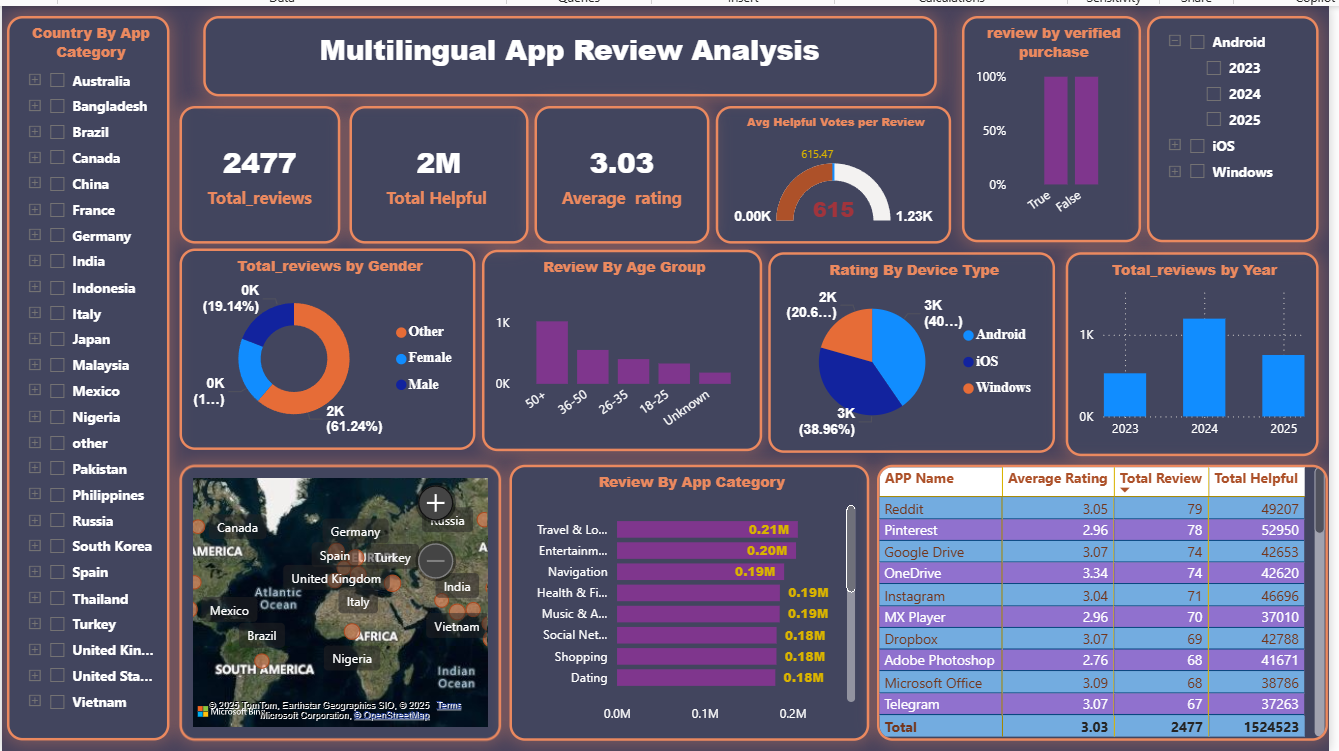

This screenshot's page, from the dashboard's own definition file:
{"tool":"powerbi","page":{"name":"Page 1","canvas":[1280,720],"ordinal":0},"visuals":[{"type":"card","fields":{"Values":["multilingual_mobile_app.Total_reviews"]},"box":[171.2,96.2,155,132.5],"z":0},{"type":"clusteredColumnChart","title":"Review By Age Group","fields":{"Category":["multilingual_mobile_app.Age Group"],"Y":["CountNonNull(multilingual_mobile_app.review_id)"]},"box":[463.1,235.4,270,194.6],"z":1000},{"type":"card","fields":{"Values":["multilingual_mobile_app.Total Helpful Votes"]},"box":[335,96.2,172.5,132.5],"z":2000},{"type":"donutChart","fields":{"Category":["multilingual_mobile_app.Gender"],"Y":["multilingual_mobile_app.Total_reviews"]},"box":[170.8,234.6,285.4,194.6],"z":3000},{"type":"map","fields":{"Category":["multilingual_mobile_app.country"],"Size":["CountNonNull(multilingual_mobile_app.review_id)"]},"box":[170.8,443.1,310.8,266],"z":4000},{"type":"clusteredBarChart","title":"Review By App Category","fields":{"Category":["multilingual_mobile_app.app_category"],"Y":["Sum(multilingual_mobile_app.review_id)"]},"box":[490,443.1,346.9,266.2],"z":5000},{"type":"pieChart","title":"Rating By Device  Type","fields":{"Category":["multilingual_mobile_app.device_type"],"Y":["Sum(multilingual_mobile_app.rating)"]},"box":[740,237.7,276.9,193.8],"z":6000},{"type":"lineStackedColumnComboChart","fields":{"Category":["multilingual_mobile_app.Date.Variation.Date Hierarchy.Year"],"Y":["multilingual_mobile_app.Total_reviews"]},"box":[1026.7,237.7,243.7,196.6],"z":7000},{"type":"hundredPercentStackedColumnChart","title":"review by verified purchase","fields":{"Y":["Sum(multilingual_mobile_app.review_id)"],"Category":["multilingual_mobile_app.verified_purchase"]},"box":[926.2,10,172.5,218.8],"z":8000},{"type":"gauge","title":"Avg Helpful Votes per Review","fields":{"Y":["Avg(multilingual_mobile_app.num_helpful_votes)"]},"box":[688.8,96.2,227.5,132.5],"z":9000},{"type":"textbox","box":[193.6,10,708.2,77.3],"z":10000},{"type":"card","fields":{"Values":["Avg(multilingual_mobile_app.rating)"]},"box":[513.8,96.2,168.8,132.5],"z":11000},{"type":"pivotTable","fields":{"Rows":["multilingual_mobile_app.app_name"],"Values":["Avg(multilingual_mobile_app.rating)","CountNonNull(multilingual_mobile_app.review_id)","Sum(multilingual_mobile_app.num_helpful_votes)"]},"box":[844.6,443.1,435.4,266.2],"z":12000},{"type":"slicer","fields":{"Values":["multilingual_mobile_app.device_type","multilingual_mobile_app.Year"]},"box":[1105.6,10,165.6,218.8],"z":13000},{"type":"slicer","title":"Country By  App Category","fields":{"Values":["multilingual_mobile_app.country","multilingual_mobile_app.app_category"]},"box":[5.4,10,156.9,699.2],"z":14000}]}

Visuals, with their boxes in screenshot pixels (x1, y1, x2, y2):
card - multilingual_mobile_app.Total_reviews: l=172, t=106, r=331, b=242
"Review By Age Group" clusteredColumnChart: l=472, t=249, r=749, b=449
card - multilingual_mobile_app.Total Helpful Votes: l=341, t=106, r=518, b=242
donutChart - multilingual_mobile_app.Gender x multilingual_mobile_app.Total_reviews: l=172, t=248, r=465, b=448
map - multilingual_mobile_app.country x CountNonNull(multilingual_mobile_app.review_id): l=172, t=462, r=491, b=735
"Review By App Category" clusteredBarChart: l=500, t=462, r=856, b=735
"Rating By Device  Type" pieChart: l=756, t=251, r=1041, b=450
lineStackedColumnComboChart - multilingual_mobile_app.Date.Variation.Date Hierarchy.Year x multilingual_mobile_app.Total_reviews: l=1051, t=251, r=1301, b=453
"review by verified purchase" hundredPercentStackedColumnChart: l=948, t=17, r=1125, b=242
"Avg Helpful Votes per Review" gauge: l=704, t=106, r=937, b=242
textbox: l=195, t=17, r=923, b=97
card - Avg(multilingual_mobile_app.rating): l=524, t=106, r=697, b=242
pivotTable - multilingual_mobile_app.app_name x Avg(multilingual_mobile_app.rating): l=864, t=462, r=1311, b=735
slicer - multilingual_mobile_app.device_type x multilingual_mobile_app.Year: l=1132, t=17, r=1302, b=242
"Country By  App Category" slicer: l=2, t=17, r=163, b=735
